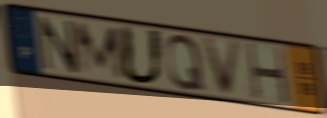H: (244, 41, 292, 107)
M: (73, 21, 129, 81)
N: (38, 15, 80, 76)
Q: (164, 33, 207, 93)
U: (118, 23, 166, 87)
V: (201, 37, 244, 98)
